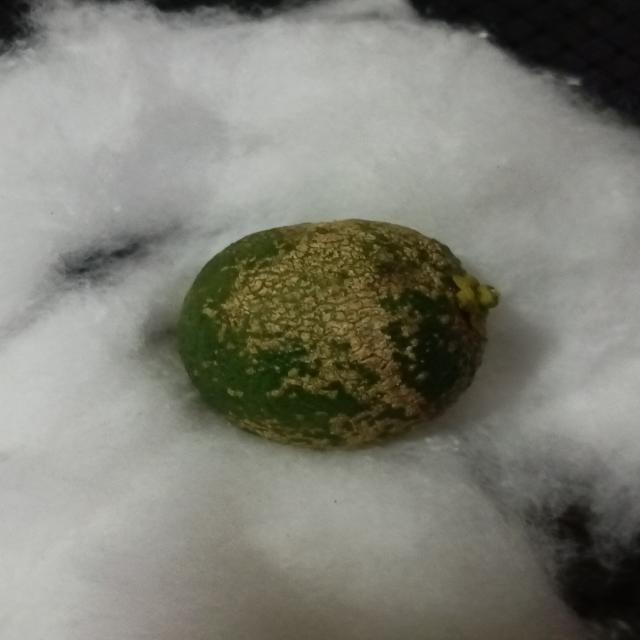thrips: (168, 222, 488, 452)
